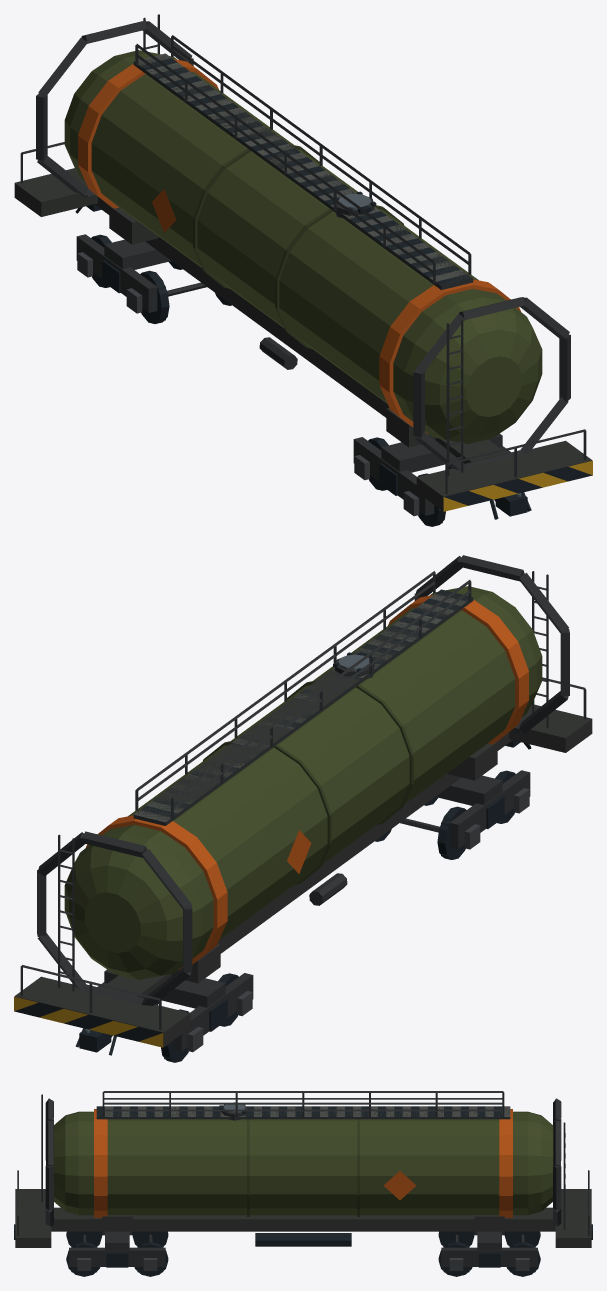
The model's file is tank-car.glb.
3 renders of one model, top to bottom at view 1: azimuth 30°, elevation 25°; view 2: azimuth 150°, elevation 25°; view 3: azimuth 270°, elevation 25°, orthographic. The views are drawn at different scales.
Parts seen in each view (by area): view 1: tank-car (×2); view 2: tank-car (×2); view 3: tank-car (×2).
Boxes of the visible parts, <box> form: tank-car (×2): <box>14,14,592,526</box>; tank-car (×2): <box>14,555,592,1062</box>; tank-car (×2): <box>14,1091,592,1276</box>.
Bounding box in the file's own units: 8.81 × 13.33 × 42.
